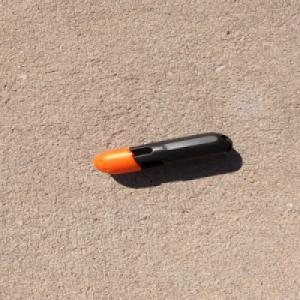PlasticPart: (92, 131, 233, 174)
